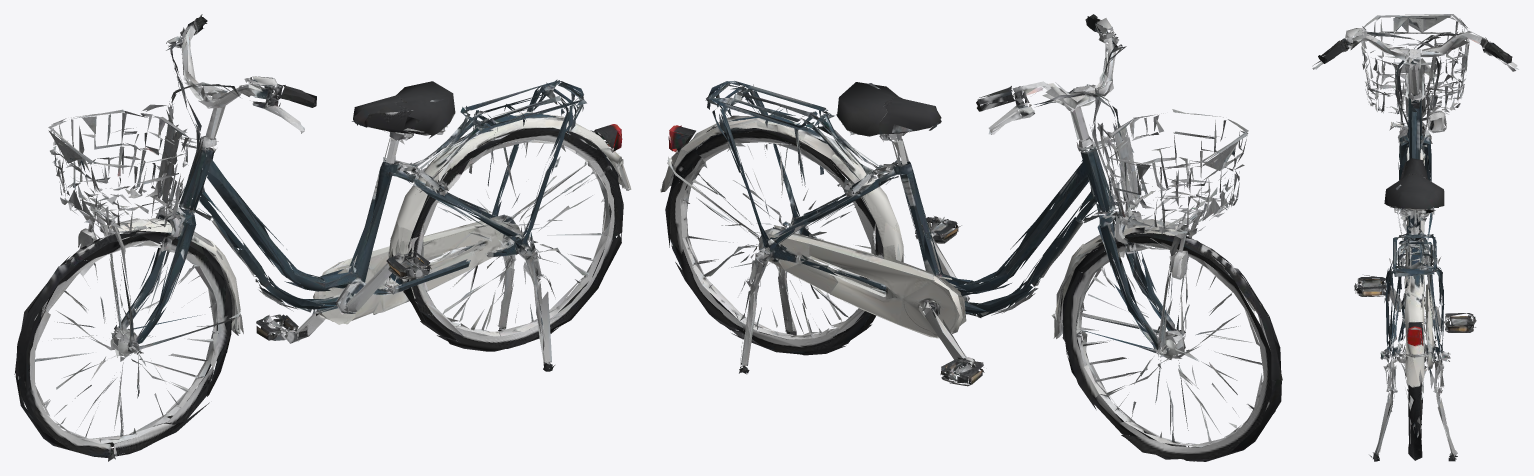
The model's file is H_bicycle.glb.
3 renders of one model, left to right at view 1: azimuth 30°, elevation 25°; view 2: azimuth 150°, elevation 25°; view 3: azimuth 270°, elevation 25°, orthographic. The views are drawn at different scales.
Visible parts, largest first — view 1: H_bicycle; view 2: H_bicycle; view 3: H_bicycle.
Boxes of the visible parts, bbox=[...] form: H_bicycle: bbox=[14, 14, 631, 461]; H_bicycle: bbox=[660, 14, 1282, 461]; H_bicycle: bbox=[1312, 14, 1518, 461].
Size of the model in its own units: 1.85 by 1.1 by 0.6582.
1 material, 1 textured.
